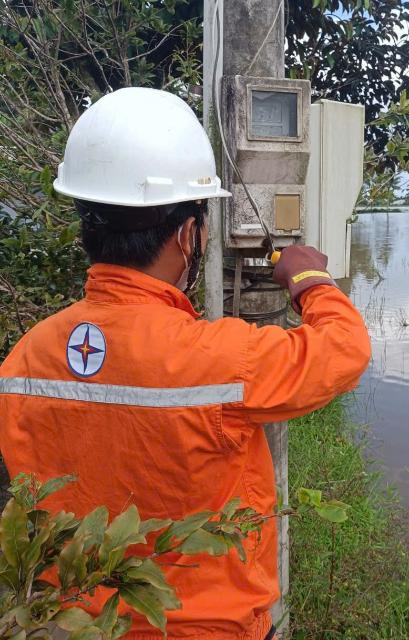gloves: (275, 236, 341, 306)
helmet: (56, 73, 239, 224)
